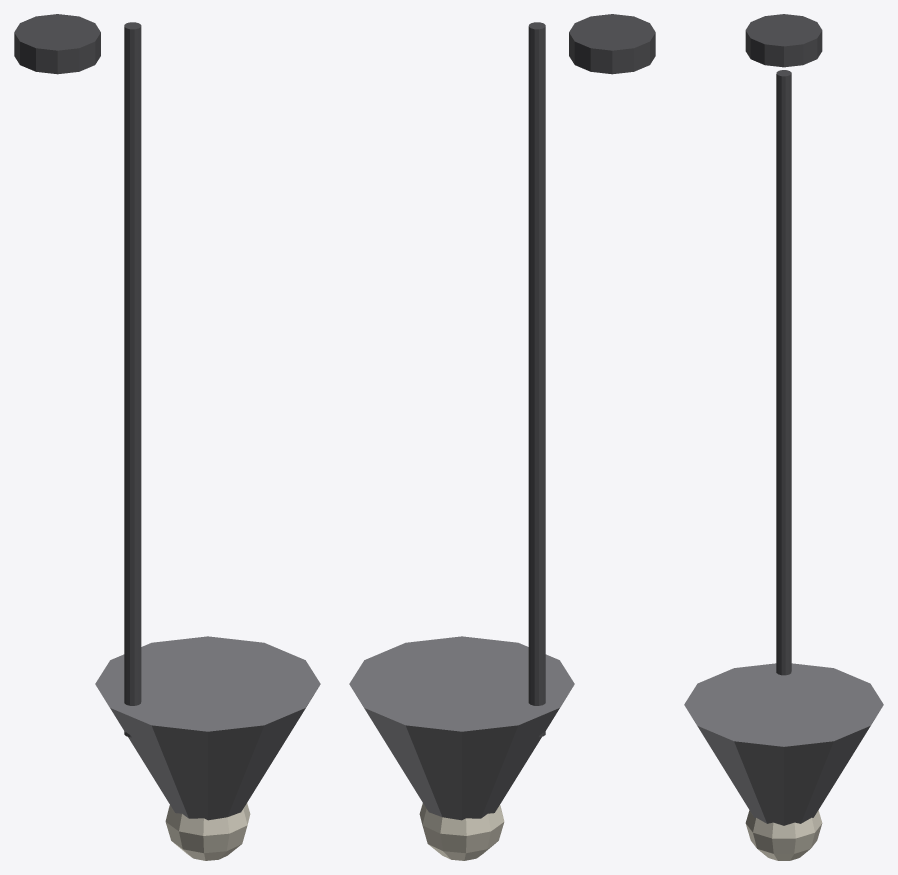
File: ilu_pendente_canto.glb
3 renders of one model, left to right at view 1: azimuth 30°, elevation 25°; view 2: azimuth 150°, elevation 25°; view 3: azimuth 270°, elevation 25°, orthographic. The views are drawn at different scales.
Visible parts, largest first — view 1: ILU_Pendente_Canto_v01; view 2: ILU_Pendente_Canto_v01; view 3: ILU_Pendente_Canto_v01.
Part boxes in pixels (x1,y1,x2,y2): ILU_Pendente_Canto_v01: (14, 14, 320, 860); ILU_Pendente_Canto_v01: (349, 14, 655, 860); ILU_Pendente_Canto_v01: (684, 14, 883, 860).
Size of the model in its own units: 0.38 by 1.09 by 0.26.
